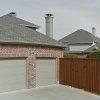Chimney: (40, 8, 64, 46)
